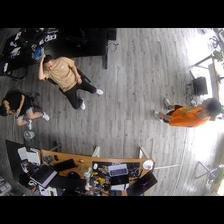normal: (152, 93, 221, 132)
